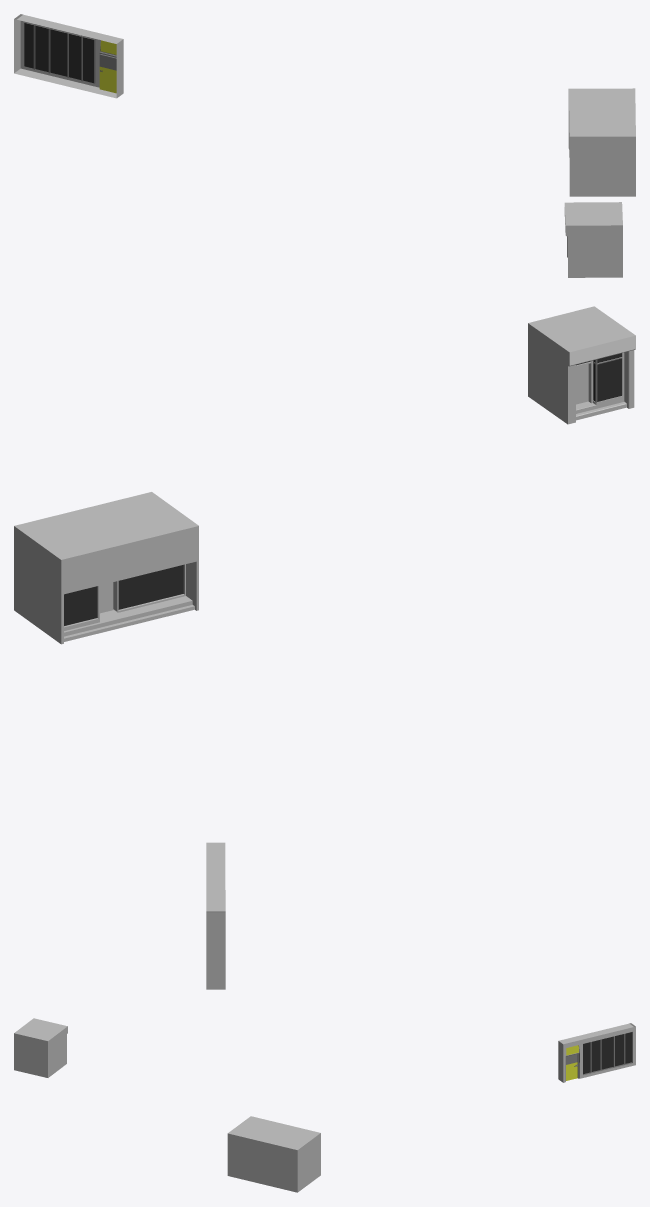
The model's file is magasin.fbx.
3 views of the same model, one above another, from view 1: azimuth 30°, elevation 25°; view 2: azimuth 150°, elevation 25°; view 3: azimuth 270°, elevation 25° (orthographic). The views are drawn at different scales.
Visible parts, largest first — view 1: MSH__facade_magasin_grand_03, MSH__facade_magasin__03, MSH__facade_magasin_petit_01; view 2: MSH__facade_magasin_grand_03, MSH__facade_magasin_petit_01, MSH__facade_magasin__03; view 3: MSH__facade_magasin_grand_03, MSH__facade_magasin__03, MSH__facade_magasin_petit_01.
Boxes of the visible parts, x1,y1,x2,y2 form: MSH__facade_magasin_grand_03: (568,88,635,196); MSH__facade_magasin__03: (14,14,123,98); MSH__facade_magasin_petit_01: (564,202,622,277); MSH__facade_magasin_grand_03: (14,492,198,644); MSH__facade_magasin_petit_01: (528,306,635,424); MSH__facade_magasin__03: (206,842,225,989); MSH__facade_magasin_grand_03: (227,1116,320,1192); MSH__facade_magasin__03: (558,1023,635,1082); MSH__facade_magasin_petit_01: (14,1018,67,1077).
Size of the model in its own units: 56.19 by 17.35 by 111.
